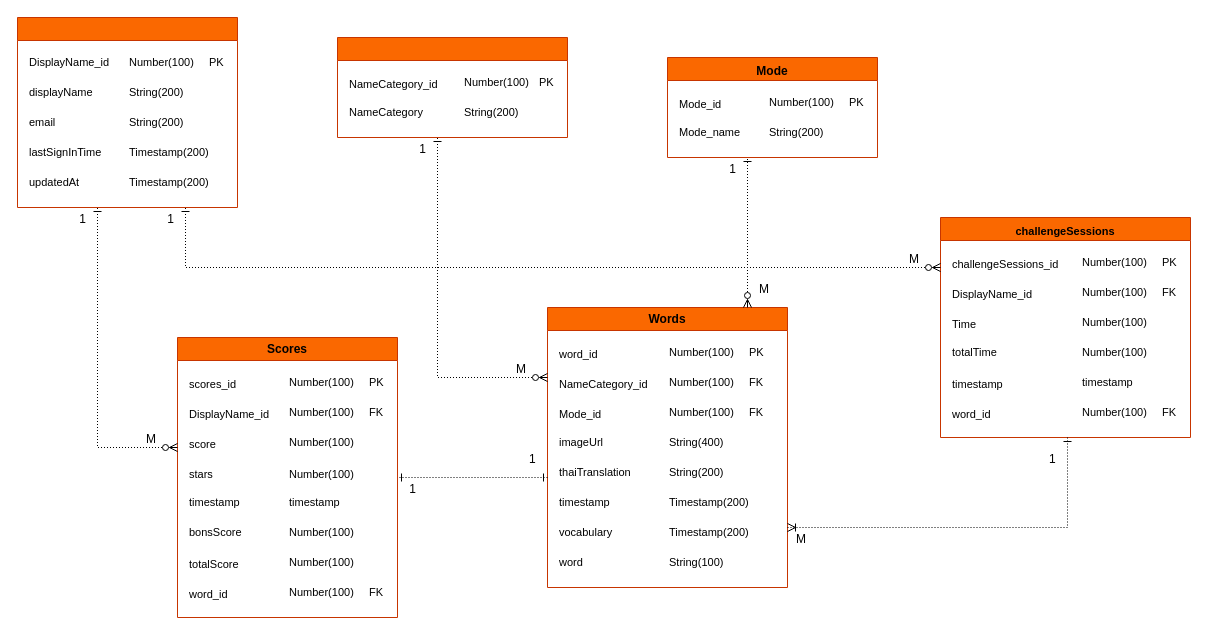
Image size: 1218x635. Some labels were removed from this diagram. Each missing label, with the box of its shape:
categories: (336, 36, 568, 138)
Users: (16, 16, 238, 208)
